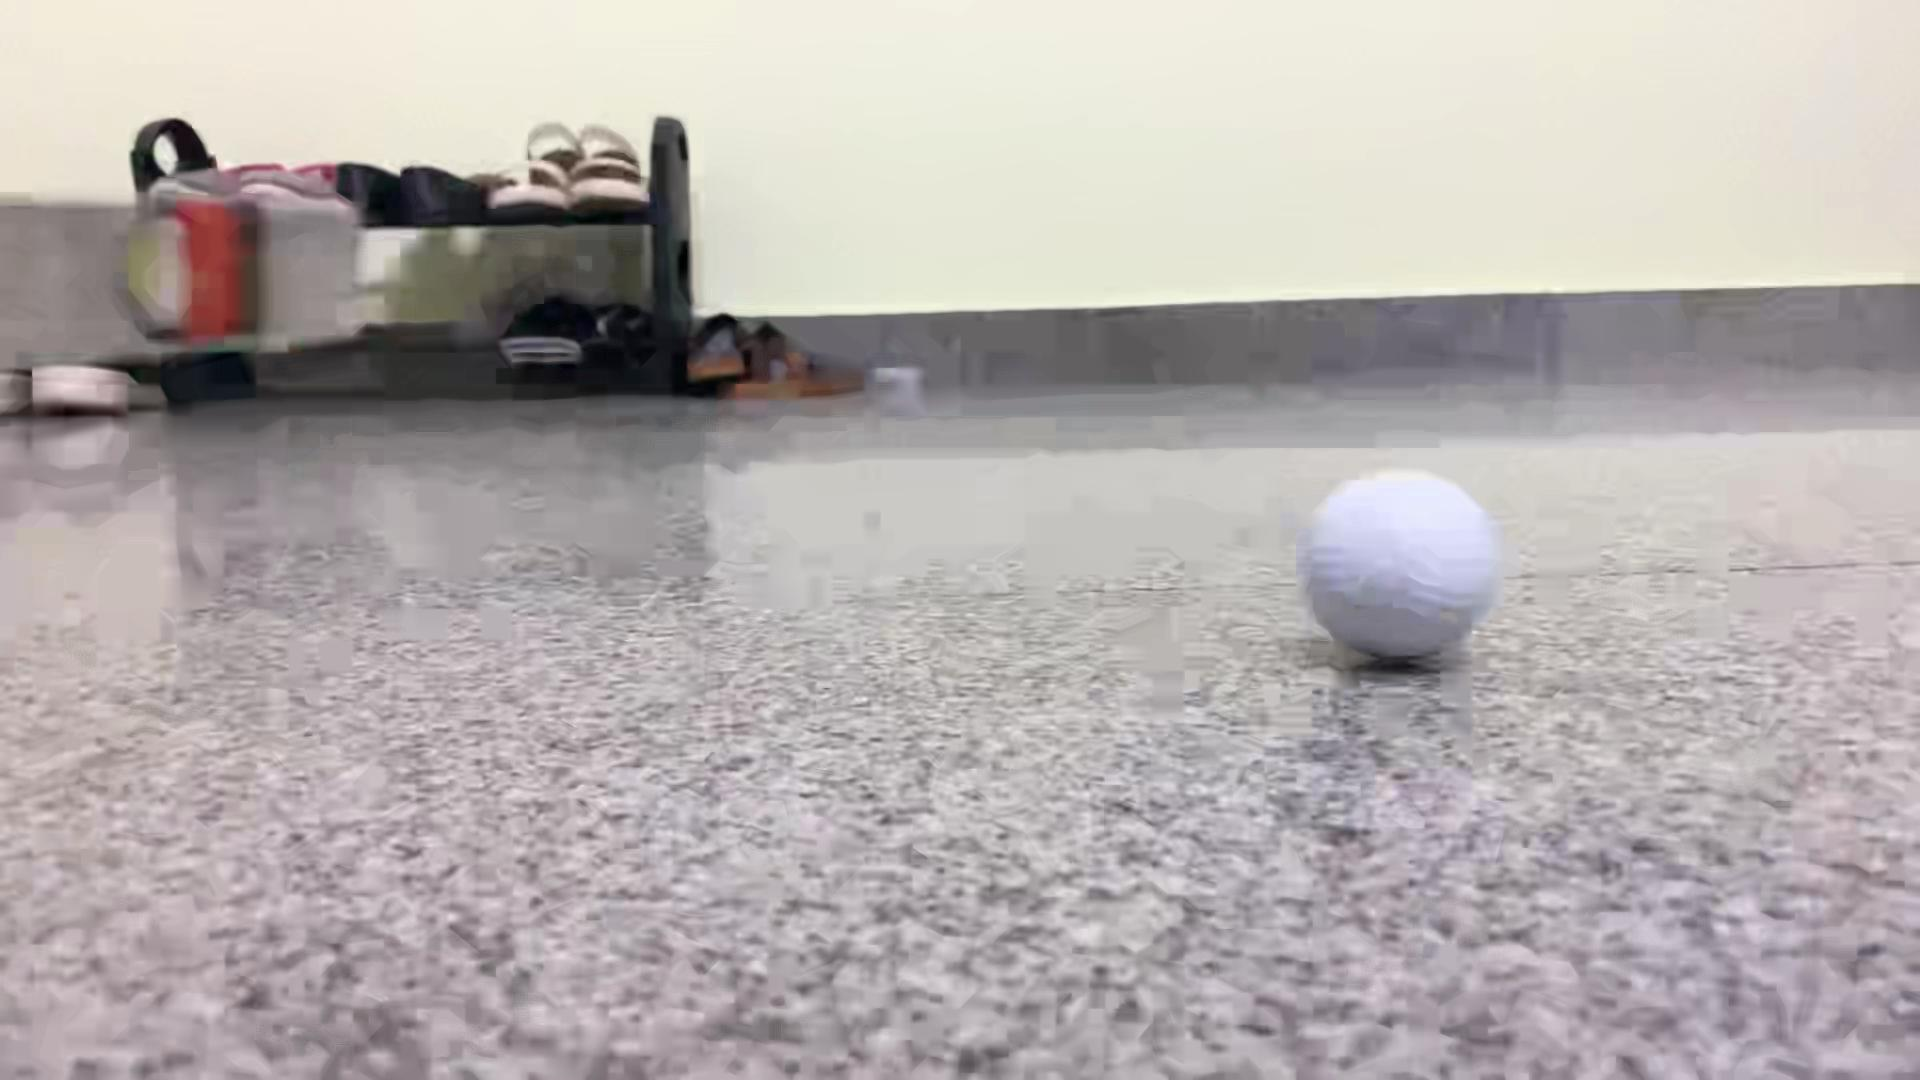golfball: (1302, 471, 1502, 660)
